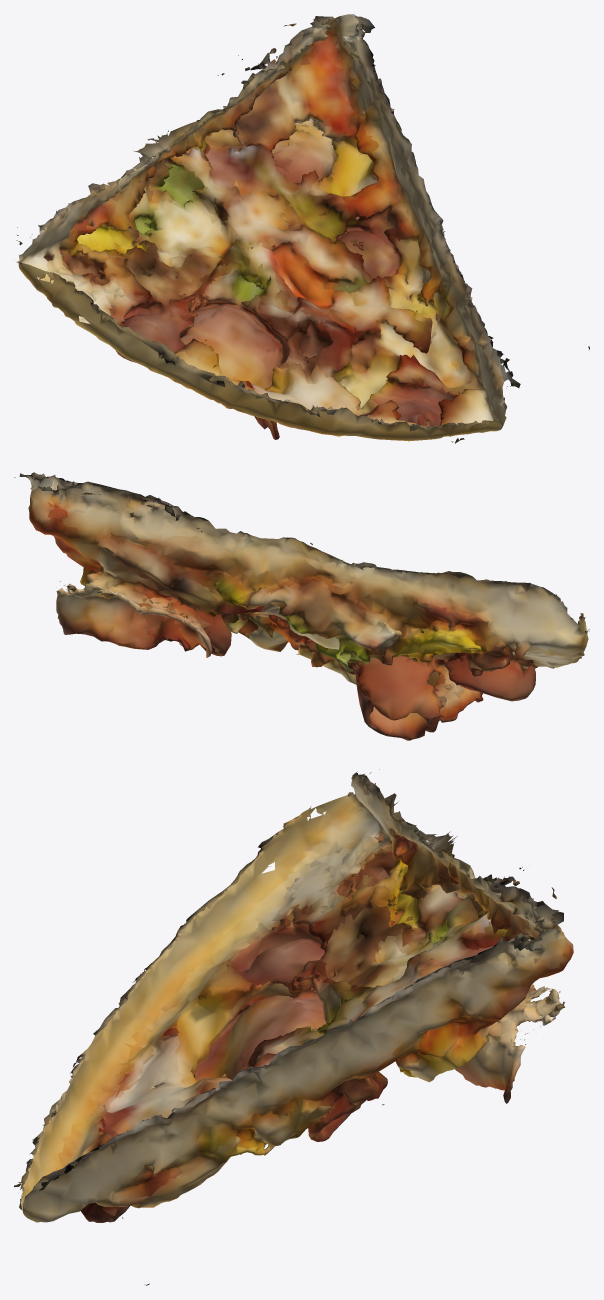
File: pizza_22011.obj
3 renders of one model, top to bottom at view 1: azimuth 30°, elevation 25°; view 2: azimuth 150°, elevation 25°; view 3: azimuth 270°, elevation 25°, orthographic. The views are drawn at different scales.
Bounding box in the file's own units: 1.61 × 0.8472 × 1.27.
Materials: 1 (1 with a texture image).
